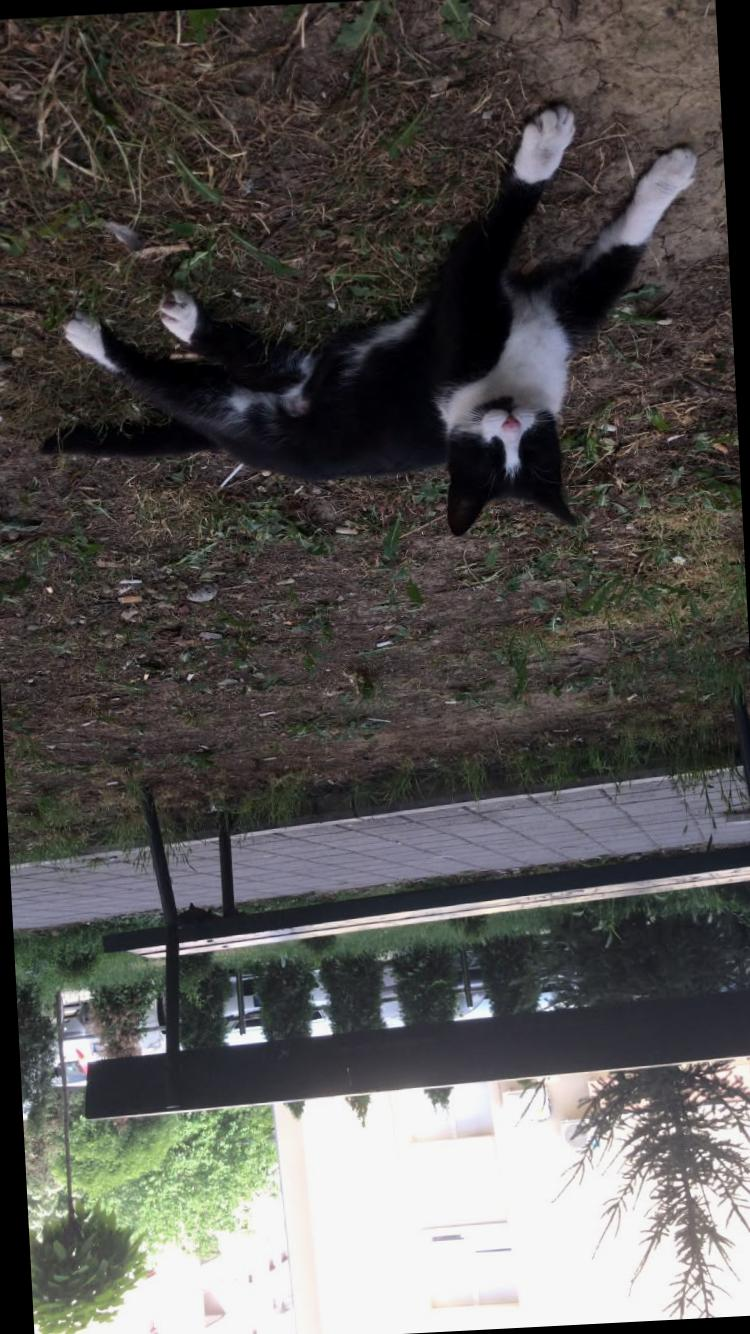macka: (22, 100, 716, 562)
